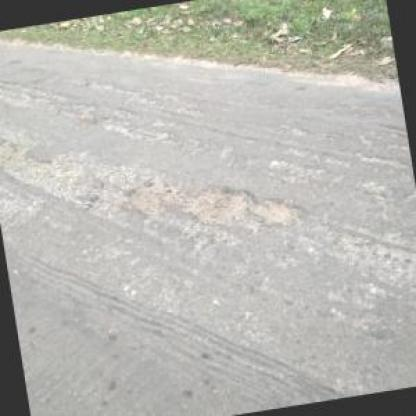pothole: (179, 176, 262, 230), (122, 173, 187, 220), (249, 193, 302, 226), (0, 123, 24, 168)
